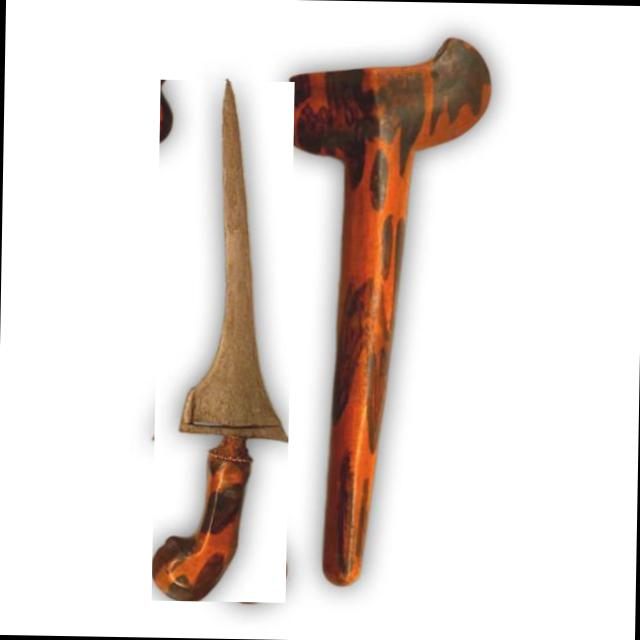Knife: (152, 81, 288, 601)
